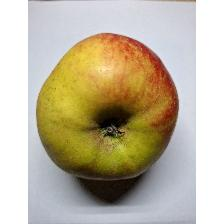Apfel: (34, 28, 182, 182)
